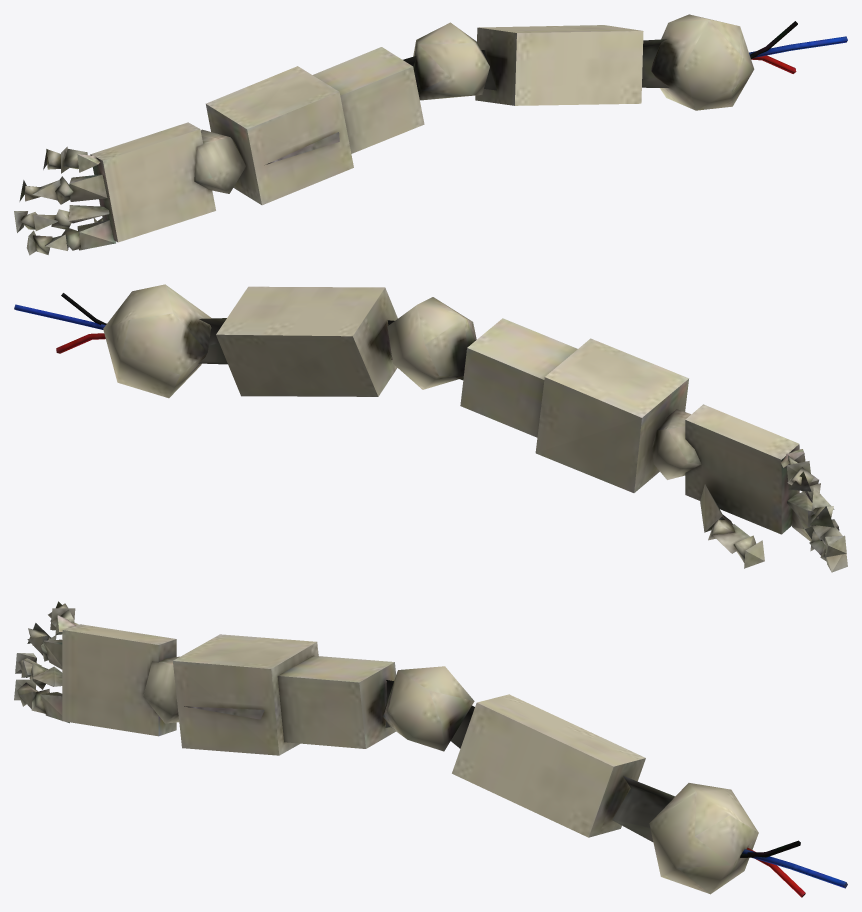
The model's file is robot_arm_lod1_web.glb.
3 views of the same model, one above another, from view 1: azimuth 30°, elevation 25°; view 2: azimuth 150°, elevation 25°; view 3: azimuth 330°, elevation 25° (orthographic). The views are drawn at different scales.
Parts seen in each view (by area): view 1: RobotArm_Body, RobotArm_Wires; view 2: RobotArm_Body, RobotArm_Wires; view 3: RobotArm_Body, RobotArm_Wires.
Boxes of the visible parts, x1,y1,x2,y2 form: RobotArm_Body: (14, 14, 754, 255); RobotArm_Wires: (749, 21, 847, 73); RobotArm_Body: (103, 284, 847, 572); RobotArm_Wires: (14, 293, 106, 353); RobotArm_Body: (14, 601, 758, 894); RobotArm_Wires: (740, 840, 847, 897).
Bounding box in the file's own units: 0.9921 × 0.1781 × 0.124.
1 material, 1 textured.
